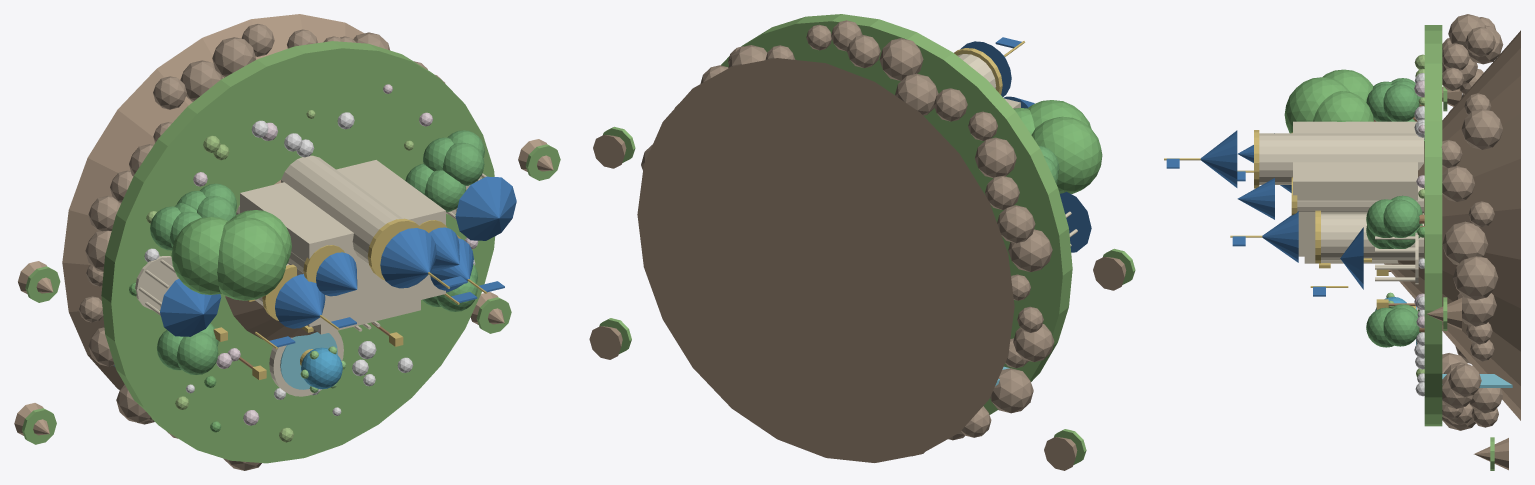
The model's file is WEIYANG_castle_colored_3D_prototype.glb.
3 views of the same model, side by side, from view 1: azimuth 30°, elevation 25°; view 2: azimuth 150°, elevation 25°; view 3: azimuth 270°, elevation 25° (orthographic). The views are drawn at different scales.
Parts seen in each view (by area): view 1: part_1, part_0, part_40, part_72, part_135, part_133, part_156, part_74, part_145, part_50, part_62, part_159 (+33 smaller); view 2: part_0, part_1, part_133, part_25, part_13, part_17, part_20, part_14, part_19, part_145, part_23, part_135 (+12 smaller); view 3: part_0, part_1, part_40, part_72, part_54, part_135, part_3, part_134, part_4, part_8, part_74, part_122 (+28 smaller).
Part boxes in pixels (x1=…): part_1: x1=101, y1=41, x2=495, y2=463; part_0: x1=62, y1=14, x2=364, y2=389; part_40: x1=240, y1=160, x2=445, y2=326; part_72: x1=281, y1=155, x2=402, y2=264; part_135: x1=217, y1=217, x2=287, y2=300; part_133: x1=171, y1=217, x2=227, y2=294; part_156: x1=455, y1=176, x2=516, y2=240; part_74: x1=380, y1=228, x2=436, y2=288; part_145: x1=160, y1=279, x2=221, y2=336; part_50: x1=275, y1=274, x2=325, y2=328; part_62: x1=316, y1=252, x2=357, y2=296; part_159: x1=280, y1=332, x2=337, y2=389; part_0: x1=637, y1=58, x2=1014, y2=462; part_1: x1=721, y1=14, x2=1072, y2=414; part_133: x1=1031, y1=116, x2=1102, y2=193; part_25: x1=990, y1=368, x2=1033, y2=413; part_13: x1=879, y1=38, x2=923, y2=80; part_17: x1=975, y1=137, x2=1016, y2=177; part_20: x1=1008, y1=229, x2=1052, y2=272; part_14: x1=895, y1=73, x2=938, y2=115; part_19: x1=997, y1=205, x2=1035, y2=243; part_145: x1=1060, y1=191, x2=1091, y2=252; part_23: x1=1013, y1=324, x2=1054, y2=361; part_135: x1=1027, y1=100, x2=1091, y2=128; part_0: x1=1384, y1=30, x2=1520, y2=420; part_1: x1=1424, y1=25, x2=1442, y2=426; part_40: x1=1293, y1=121, x2=1417, y2=256; part_72: x1=1259, y1=133, x2=1423, y2=184; part_54: x1=1321, y1=213, x2=1423, y2=260; part_135: x1=1284, y1=77, x2=1349, y2=133; part_3: x1=1453, y1=256, x2=1498, y2=300; part_134: x1=1313, y1=91, x2=1373, y2=121; part_4: x1=1442, y1=221, x2=1488, y2=265; part_8: x1=1461, y1=108, x2=1502, y2=149; part_74: x1=1200, y1=130, x2=1237, y2=187; part_122: x1=1383, y1=199, x2=1419, y2=237.
Bounding box in the file's own units: 23.44 × 18.07 × 15.1.
